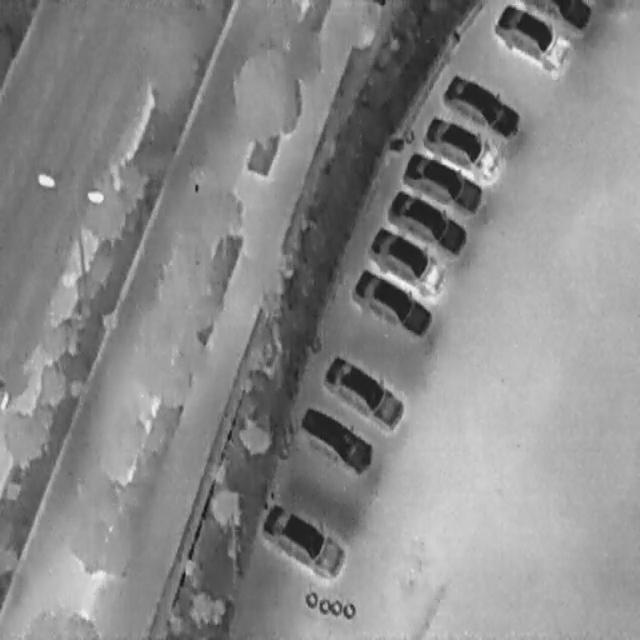Car: (253, 490, 353, 585), (289, 393, 380, 482), (319, 348, 410, 437), (346, 257, 438, 345), (361, 215, 451, 304), (382, 177, 472, 265), (417, 104, 510, 186), (437, 64, 526, 144), (488, 0, 574, 81), (399, 144, 488, 218), (523, 0, 591, 30)
